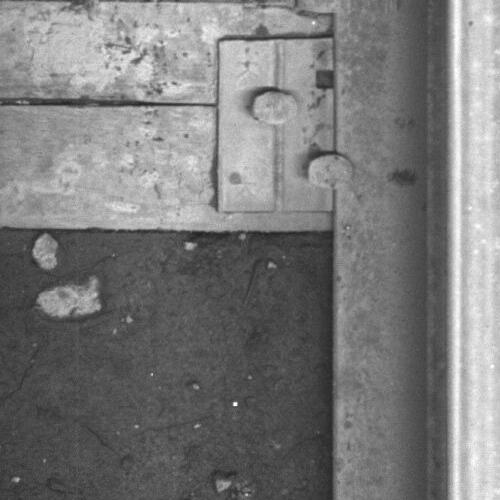do: (216, 38, 358, 212)
hole_do: (307, 60, 351, 99)
rail: (443, 1, 500, 500)
tie_wood: (1, 1, 334, 234)
wood_crack: (1, 93, 219, 114)
